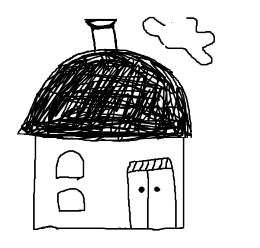chimney: (79, 5, 131, 54)
clouds: (138, 6, 229, 70)
door: (121, 151, 188, 237)
open_window: (44, 182, 90, 218), (53, 147, 89, 183)
shaded_roof: (10, 45, 199, 150)
wall: (25, 132, 192, 234)
